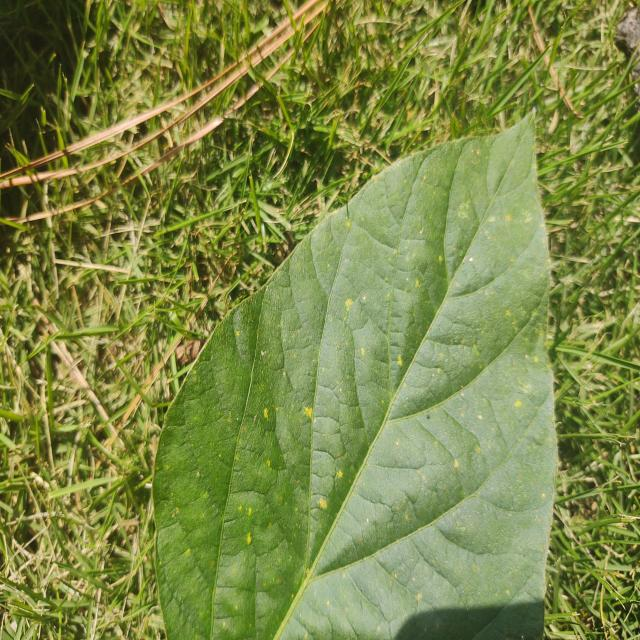Soybean: (0, 0, 640, 640)
downey_mildew: (391, 357, 555, 566), (345, 484, 538, 639), (293, 215, 356, 605), (526, 147, 561, 617), (163, 306, 255, 480), (209, 332, 260, 640), (307, 418, 396, 587), (369, 409, 475, 535), (300, 554, 451, 640), (448, 179, 543, 310), (392, 142, 461, 320), (273, 265, 326, 481), (467, 347, 555, 473), (346, 149, 428, 272), (396, 340, 512, 418), (311, 319, 365, 484), (301, 295, 323, 614), (383, 352, 482, 419), (262, 552, 328, 640), (349, 317, 397, 429), (313, 207, 354, 307), (431, 280, 486, 353), (231, 431, 282, 498), (384, 212, 397, 428), (225, 490, 275, 544), (381, 397, 468, 426), (426, 328, 477, 348), (233, 307, 252, 358), (345, 200, 351, 223)
